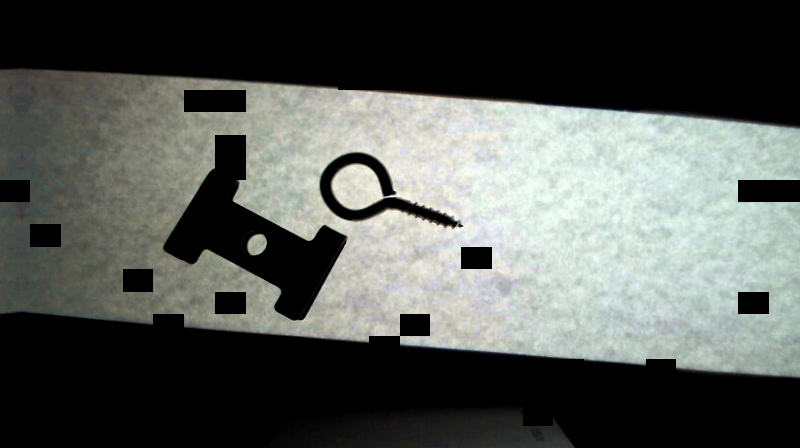O001: (318, 149, 465, 228)
O002: (162, 166, 346, 319)
